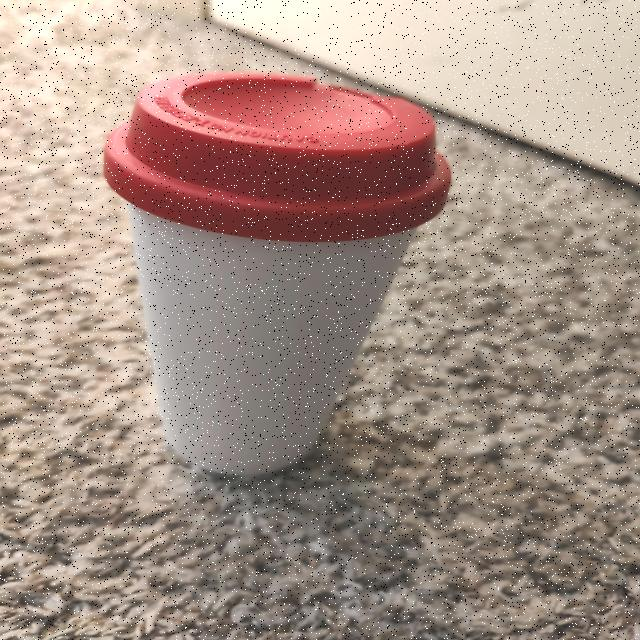mug: (69, 86, 345, 464)
